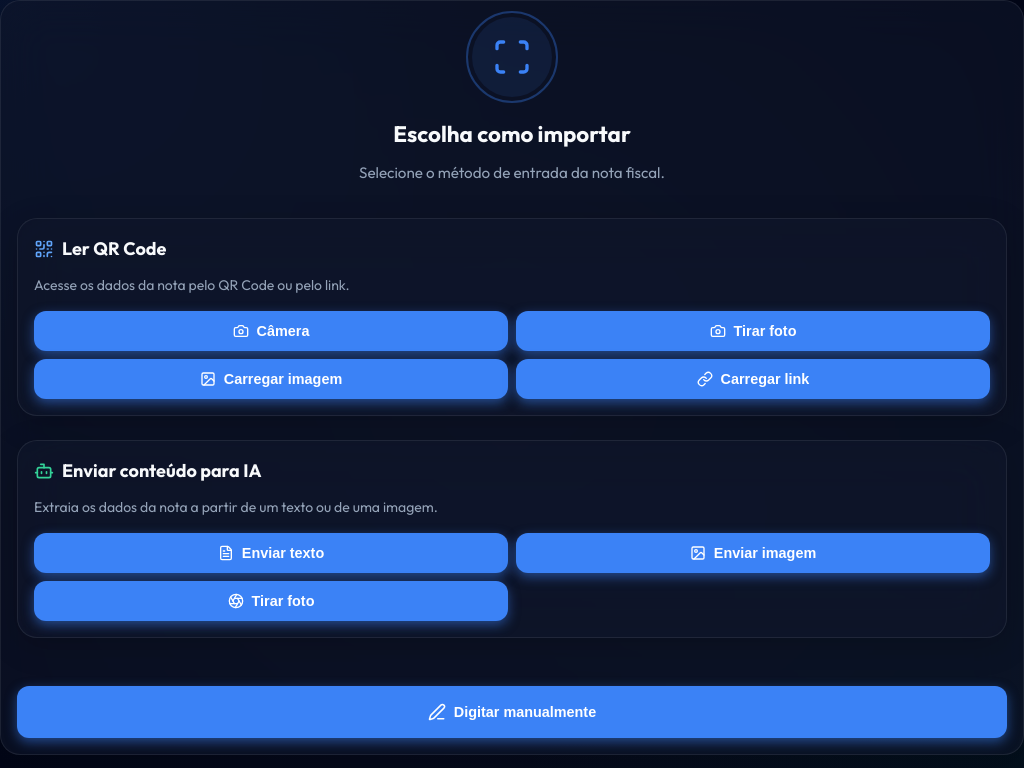
IdleScreen › preserva o link digitado ao alternar entre métodos no menu inferior
// Entra em Link
Click the button "Carregar link": (753, 378) 516,358 -> 990,398
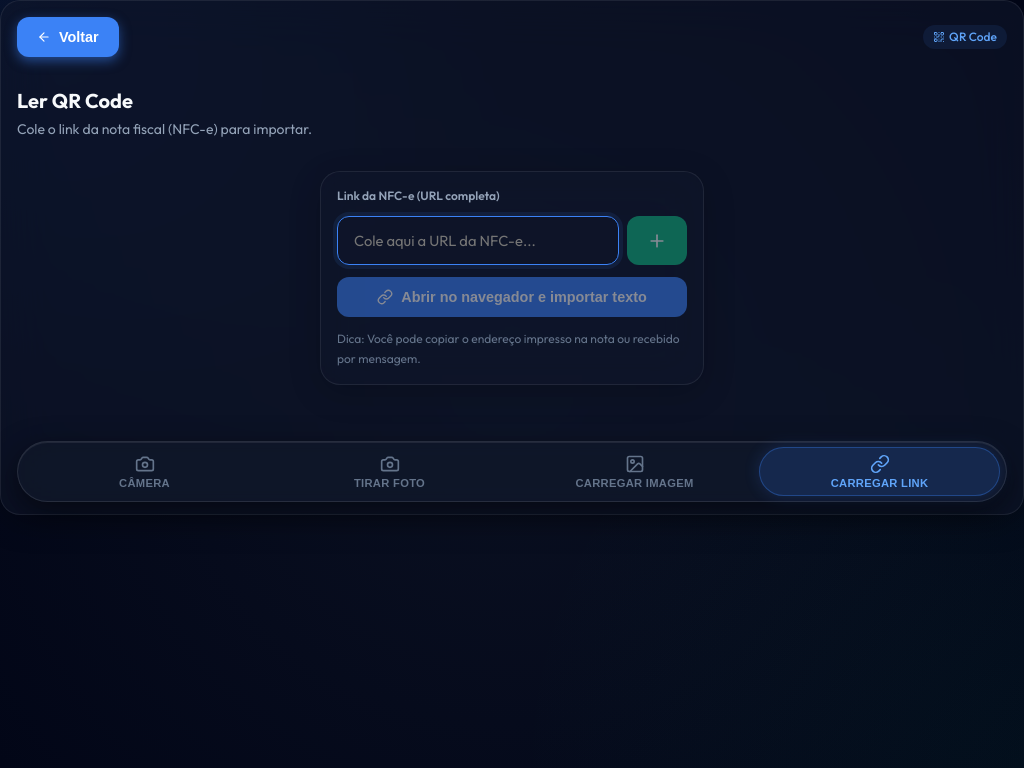
In the field with placeholder "Cole aqui a URL da NFC-e...": (478, 241) 337,216 -> 619,265, type "https://www.fazenda.sp.gov.br/nfce/qrcode?p=12345"
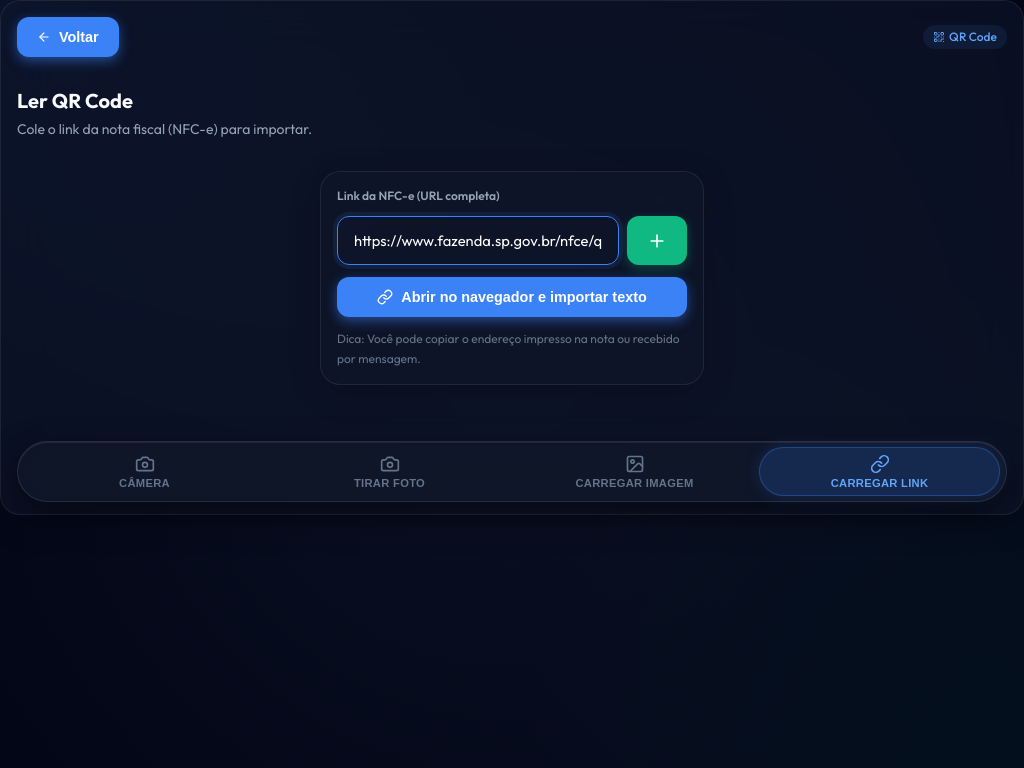
// Alterna para Carregar imagem pelo menu inferior
Click the tab with aria-label "Carregar imagem da galeria": (634, 472) 514,447 -> 755,496
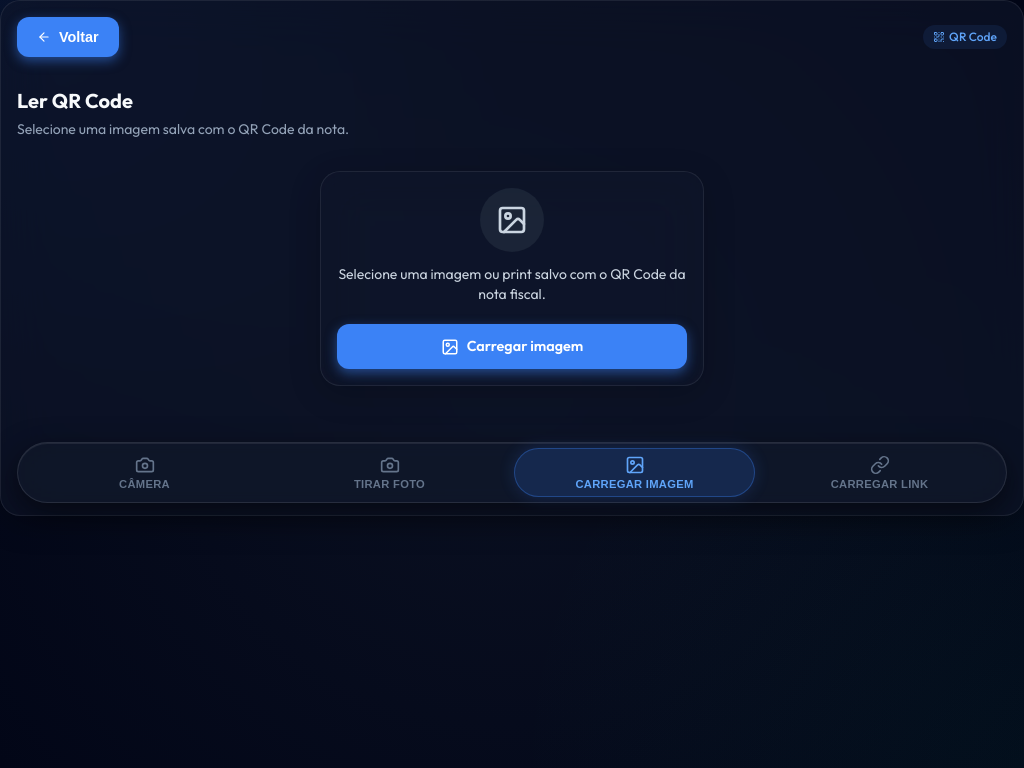
Result: the text "Selecione uma imagem ou print salvo" is shown at 338,265 -> 686,303
// Retorna para Link pelo menu inferior
Click the tab with aria-label "Informar link da nota fiscal": (880, 473) 759,448 -> 1000,497
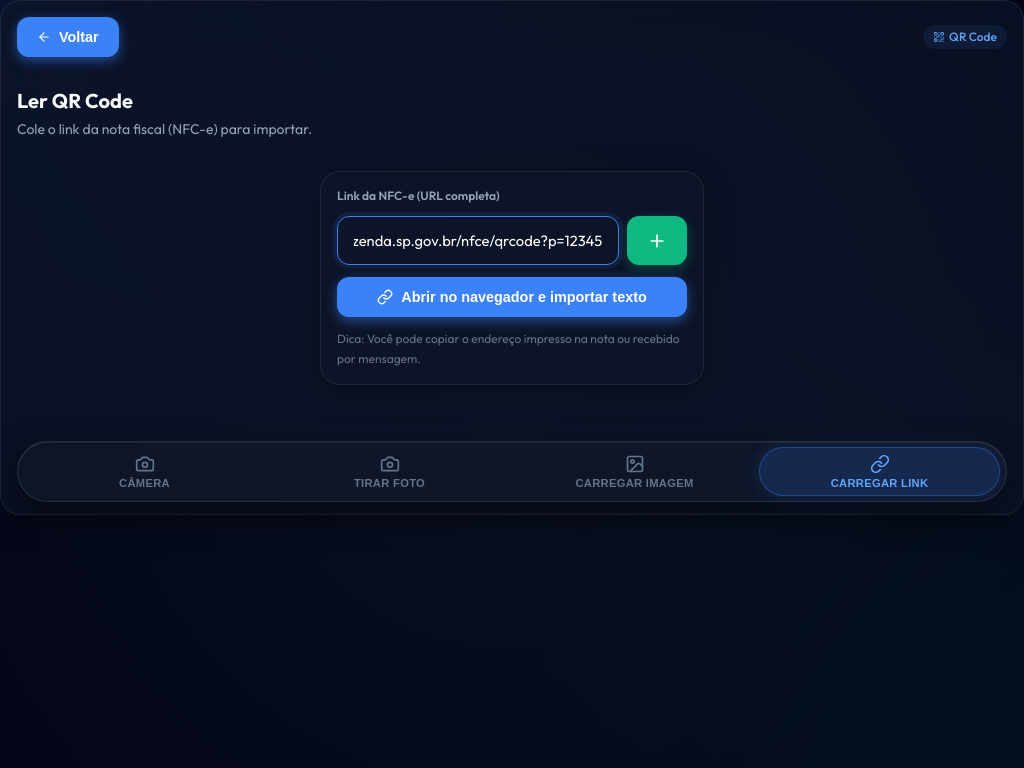
Result: the field with placeholder "Cole aqui a URL da NFC-e..." holds "https://www.fazenda.sp.gov.br/nfce/qrcode?p=12345" at 337,216 -> 619,265
